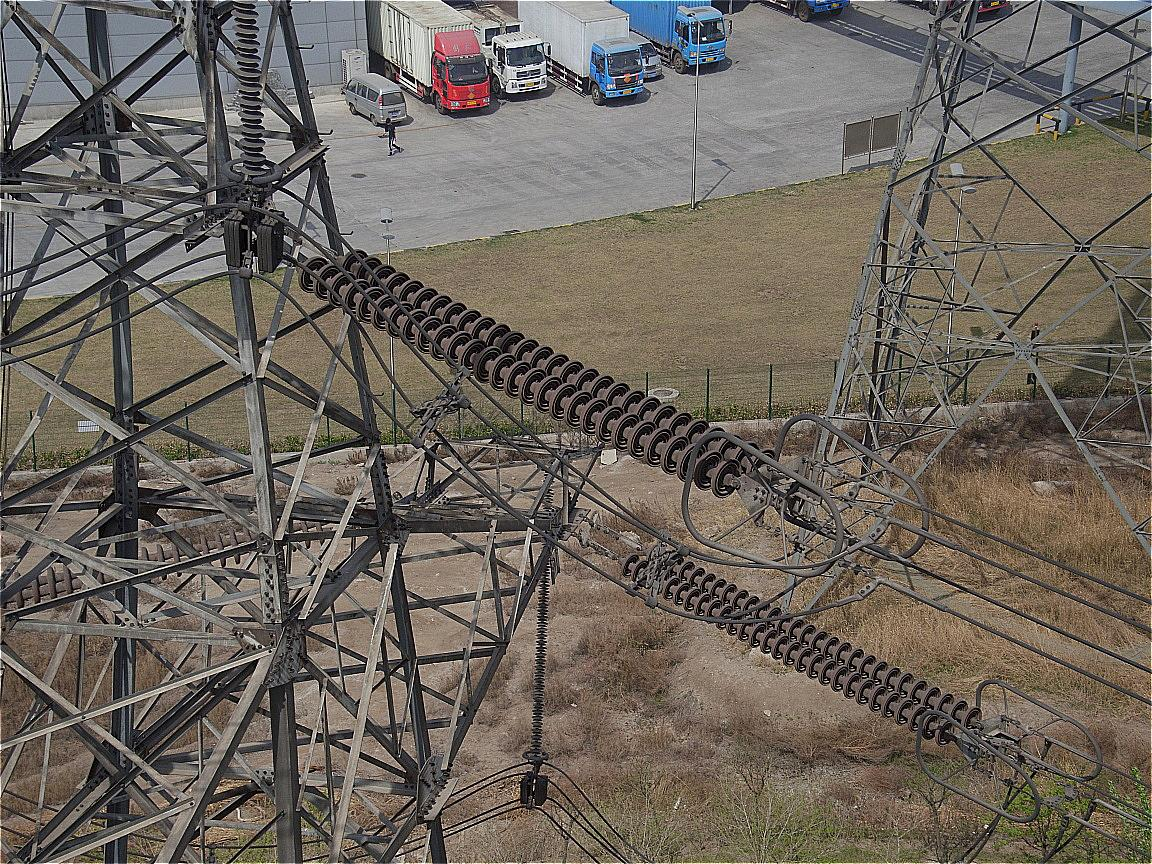insultor1: (300, 250, 776, 497), (624, 554, 984, 746)
